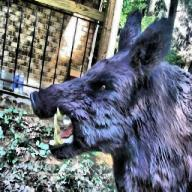boar: (28, 7, 192, 192)
